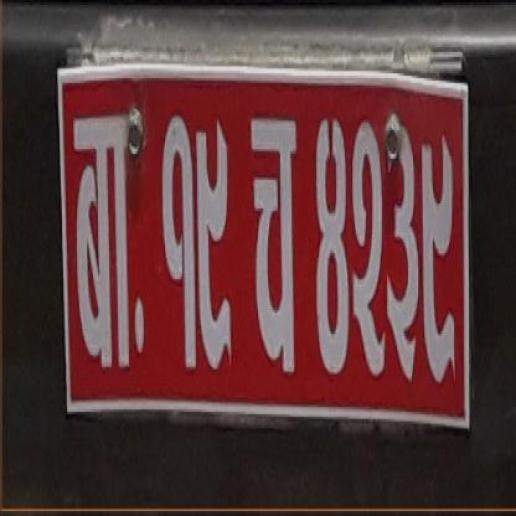1: (160, 109, 196, 391)
2: (351, 104, 385, 388)
3: (387, 109, 420, 393)
4: (313, 104, 351, 386)
9: (195, 112, 237, 396), (421, 119, 460, 398)
ba: (70, 109, 147, 391)
cha: (247, 99, 301, 391)
